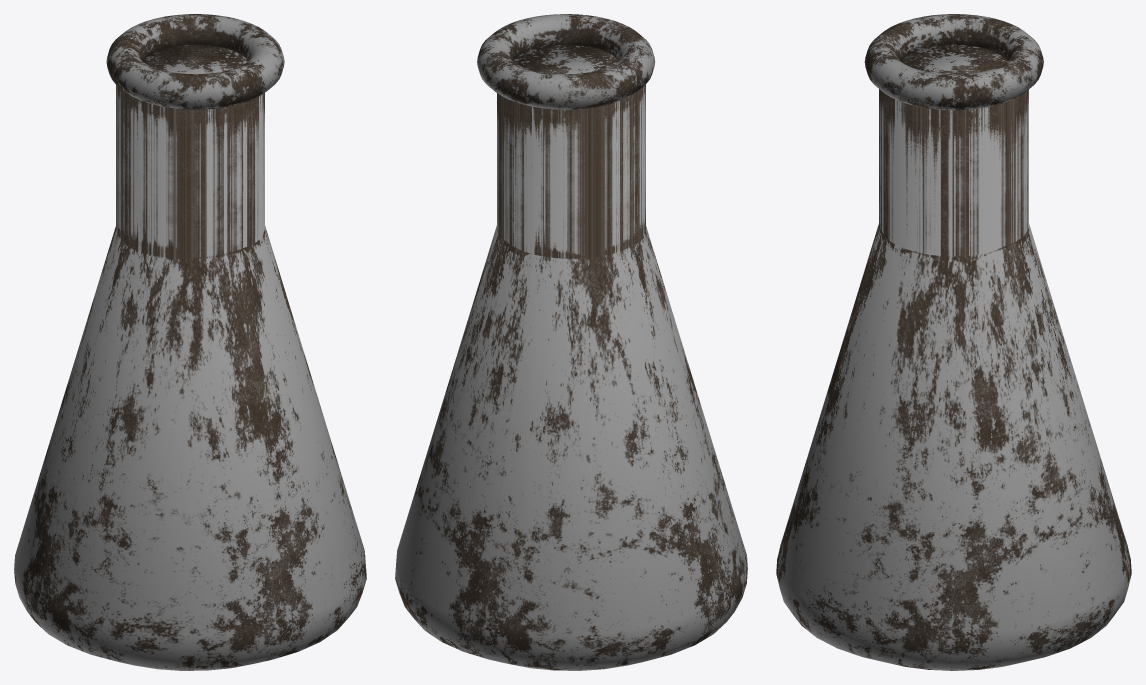
Rendered from probowka_4.glb.
The picture shows the model from 3 angles, left to right: view 1: azimuth 30°, elevation 25°; view 2: azimuth 150°, elevation 25°; view 3: azimuth 270°, elevation 25°; orthographic projection.
Visible parts, largest first — view 1: Torus.002; view 2: Torus.002; view 3: Torus.002.
Boxes of the visible parts, x1,y1,x2,y2 form: Torus.002: [14, 14, 366, 670]; Torus.002: [395, 14, 747, 670]; Torus.002: [776, 14, 1131, 670].
Size of the model in its own units: 0.4737 by 0.8435 by 0.4737.
Materials: 1 (1 with a texture image).
